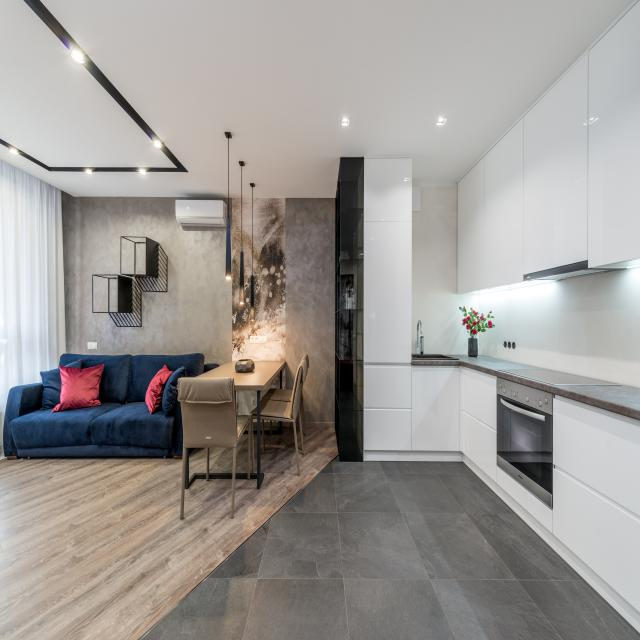floor: (142, 455, 640, 640), (0, 427, 338, 640), (209, 448, 233, 473), (235, 431, 248, 473), (189, 449, 206, 480), (253, 431, 257, 474), (250, 431, 252, 473)
wall: (457, 0, 640, 295), (61, 190, 232, 366), (478, 268, 640, 388), (285, 198, 336, 428), (412, 180, 479, 355), (363, 155, 412, 366), (92, 274, 141, 340), (120, 236, 167, 292), (93, 276, 108, 312), (121, 237, 135, 274), (135, 243, 146, 274), (109, 279, 118, 312), (158, 274, 167, 291), (158, 269, 167, 286), (158, 264, 167, 281), (132, 294, 141, 311), (132, 299, 141, 316), (132, 309, 141, 326), (132, 289, 141, 305), (132, 304, 141, 320), (158, 244, 167, 260), (158, 249, 167, 265), (158, 254, 167, 270), (158, 259, 167, 275), (123, 313, 134, 326), (113, 313, 124, 326), (110, 313, 121, 326), (139, 278, 150, 291), (149, 278, 160, 291), (152, 278, 163, 291), (126, 313, 137, 326), (120, 313, 131, 326), (136, 278, 147, 291), (132, 285, 141, 300), (117, 313, 127, 326), (143, 278, 153, 291), (146, 278, 156, 291), (156, 278, 166, 291), (130, 313, 140, 326), (132, 279, 140, 295), (124, 237, 146, 242), (475, 332, 479, 355), (97, 275, 118, 278), (473, 316, 476, 320), (475, 318, 477, 322), (480, 323, 482, 327), (472, 326, 474, 329), (481, 328, 483, 330), (481, 326, 482, 327)
